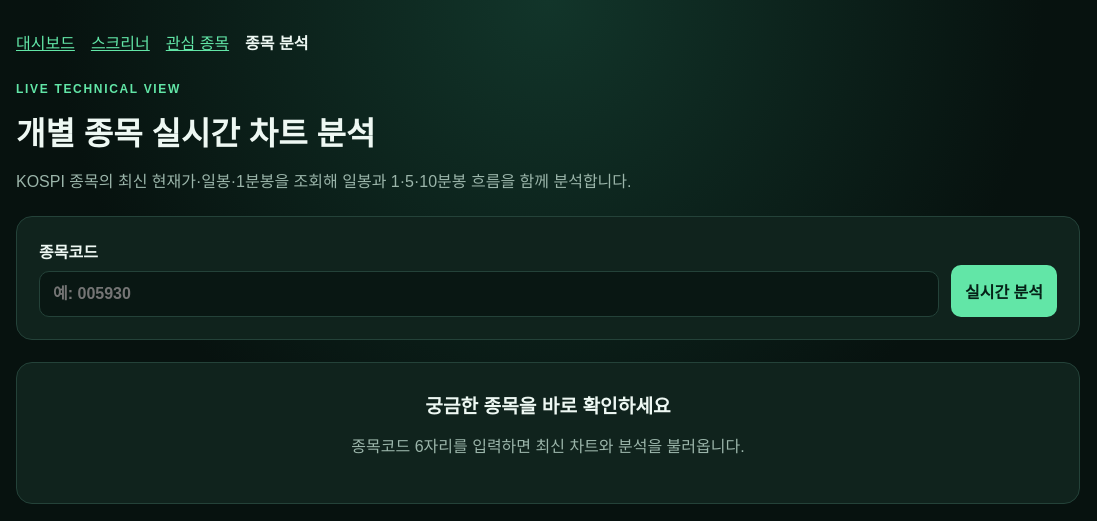
Test: InstrumentAnalysis › validates a six digit KOSPI symbol before requesting data
Type "5930" into the field named "KOSPI 종목코드 6자리". click: {"x": 489, "y": 294}
box: [39, 271, 939, 317]
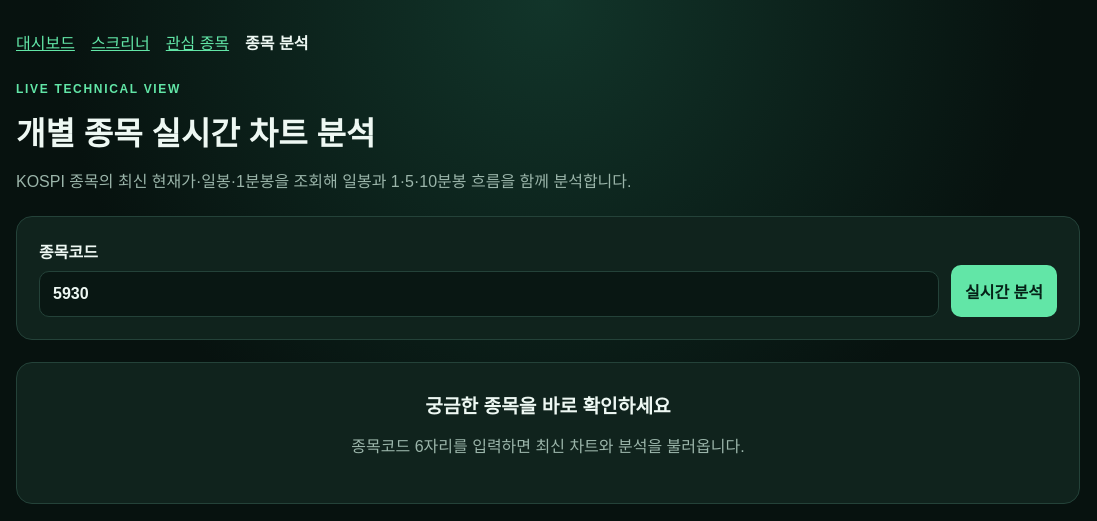
Click the button "실시간 분석". click: {"x": 1004, "y": 291}
box: [951, 265, 1057, 317]
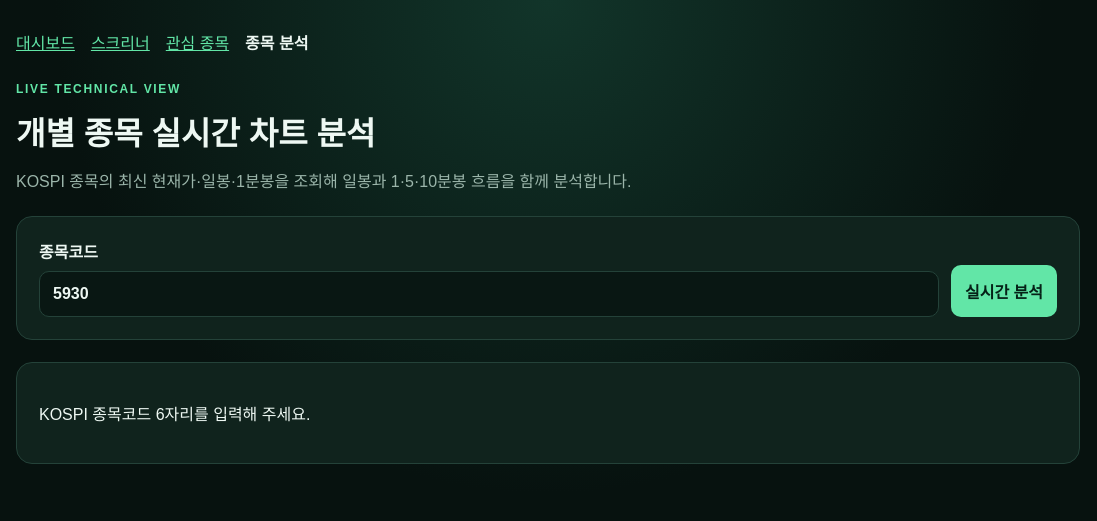
Result: the text "KOSPI 종목코드 6자리를 입력해 주세요." is shown at [39, 406, 310, 423]
